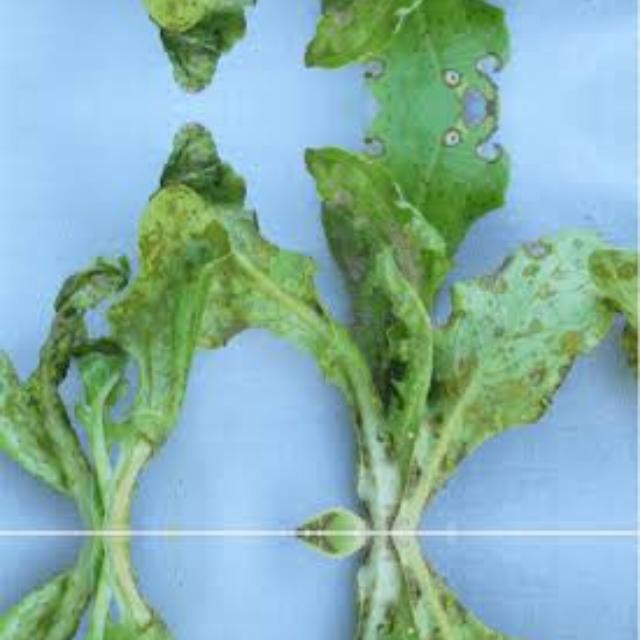Downy_mildew: (14, 133, 242, 467), (314, 107, 480, 365), (466, 212, 608, 486), (14, 0, 242, 81), (314, 0, 479, 107), (14, 599, 242, 640), (465, 579, 608, 640), (465, 0, 608, 2)
